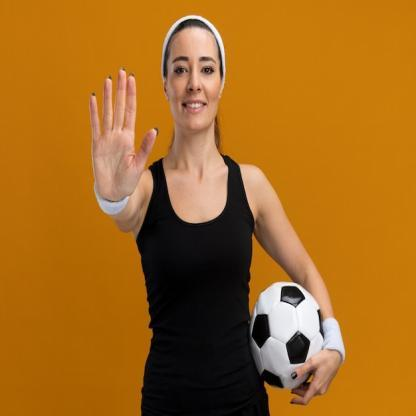stop: (87, 66, 161, 208)
